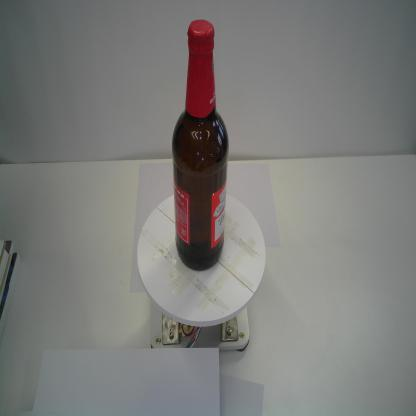Alcohol: (171, 20, 231, 274)
